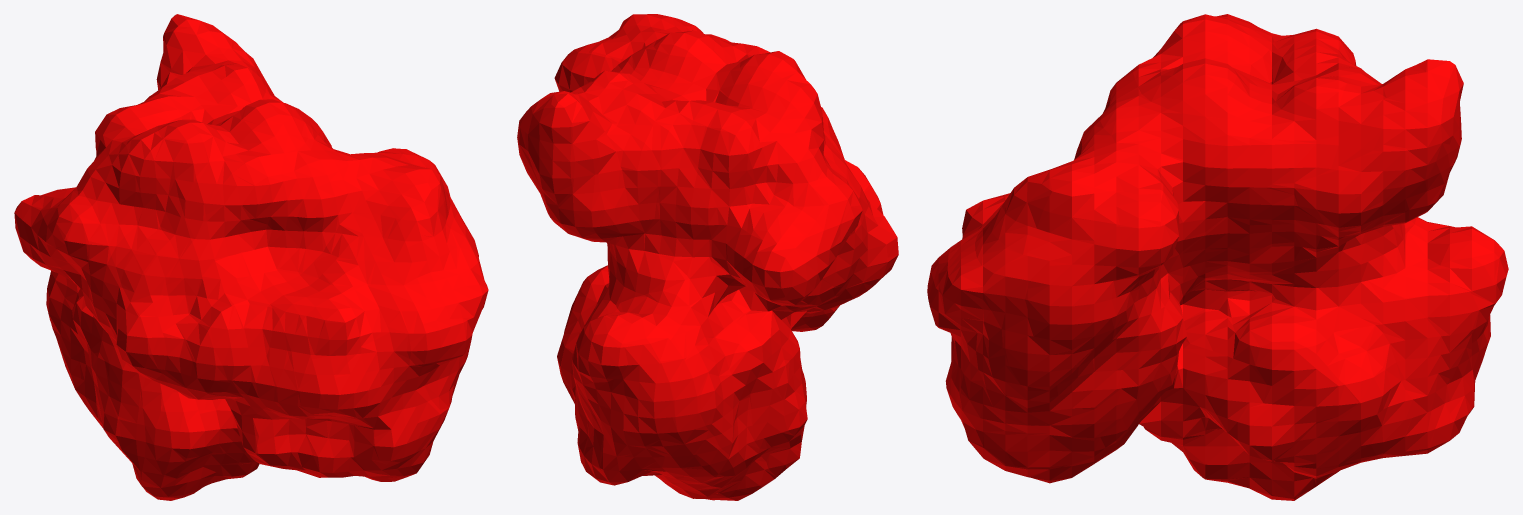
The model's file is paaA_coarse.dae.
The picture shows the model from 3 angles, left to right: view 1: azimuth 30°, elevation 25°; view 2: azimuth 150°, elevation 25°; view 3: azimuth 270°, elevation 25°; orthographic projection. The views are drawn at different scales.
Parts seen in each view (by area): view 1: paaA; view 2: paaA; view 3: paaA.
Boxes of the visible parts, bbox=[...] form: paaA: bbox=[14, 14, 488, 500]; paaA: bbox=[517, 14, 898, 500]; paaA: bbox=[927, 14, 1508, 500].
Bounding box in the file's own units: 68.8 × 80.89 × 89.46.
